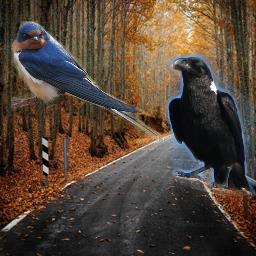Crow: (166, 54, 255, 196)
Swallow: (11, 21, 166, 143)
